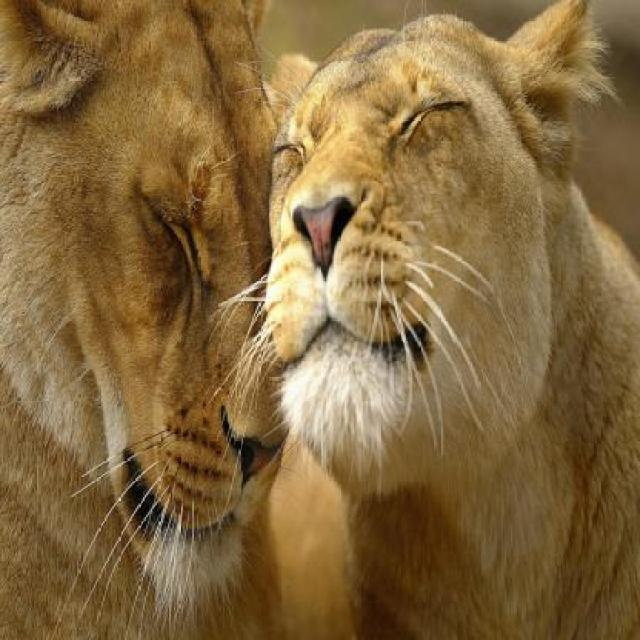Lion: (268, 9, 624, 638), (3, 0, 280, 637)
